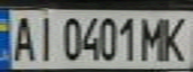0: (57, 14, 81, 62), (97, 14, 118, 62)
1: (115, 14, 139, 62)
4: (78, 14, 103, 62)
A: (6, 12, 39, 63)
I: (30, 12, 57, 63)
K: (157, 12, 193, 63)
M: (139, 14, 172, 62)
